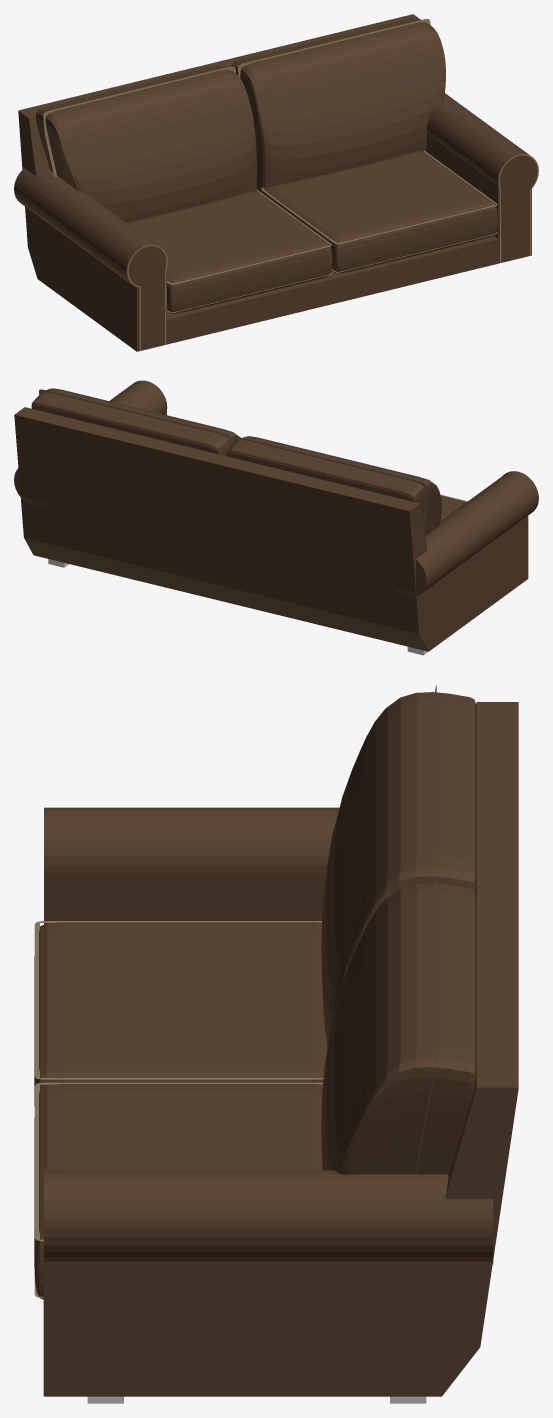
File: couch3.dae
3 views of the same model, one above another, from view 1: azimuth 30°, elevation 25°; view 2: azimuth 150°, elevation 25°; view 3: azimuth 270°, elevation 25° (orthographic). The views are drawn at different scales.
Parts seen in each view (by area): view 1: cushion; view 2: cushion; view 3: cushion.
Boxes of the visible parts, x1,y1,x2,y2 form: cushion: (14, 14, 538, 351); cushion: (14, 380, 538, 655); cushion: (34, 685, 518, 1403).
Bounding box in the file's own units: 1.98 × 1.01 × 0.8068.
